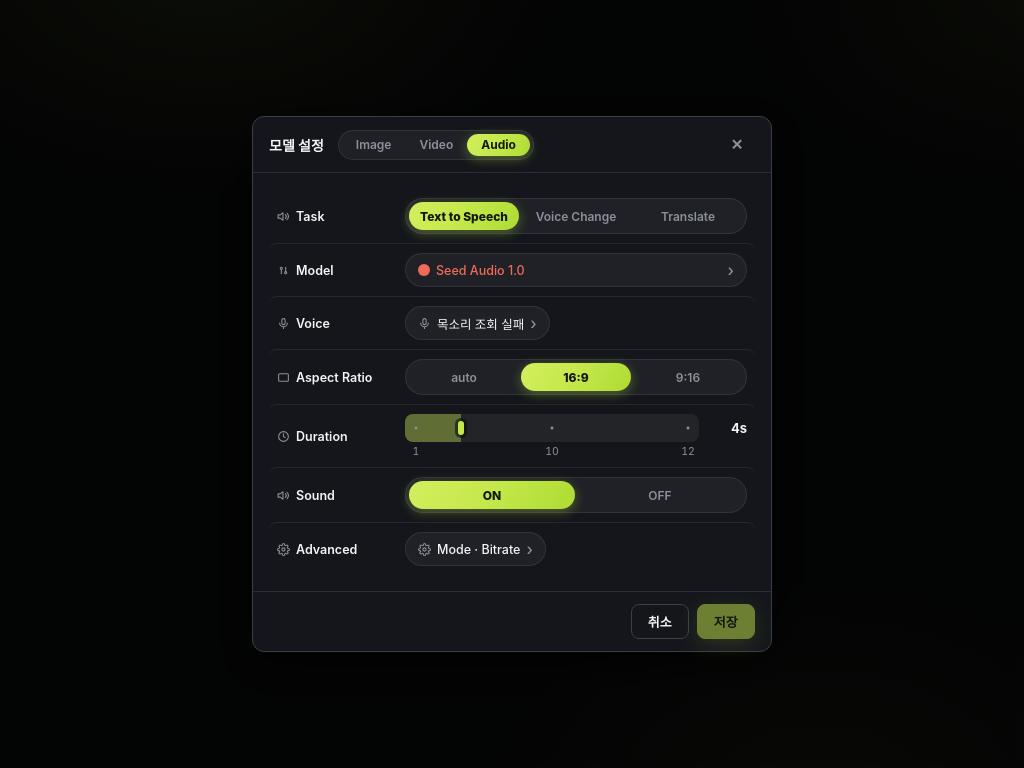
Audio 면 생성창처럼 TTS·Voice Change·Translate 단추 — 다른 일로 갔다 TTS 로 오면 마지막 대본 모델
This screenshot has width=1024, height=768.
Click the button "Voice Change" at (576, 216), box [521,202,631,230]
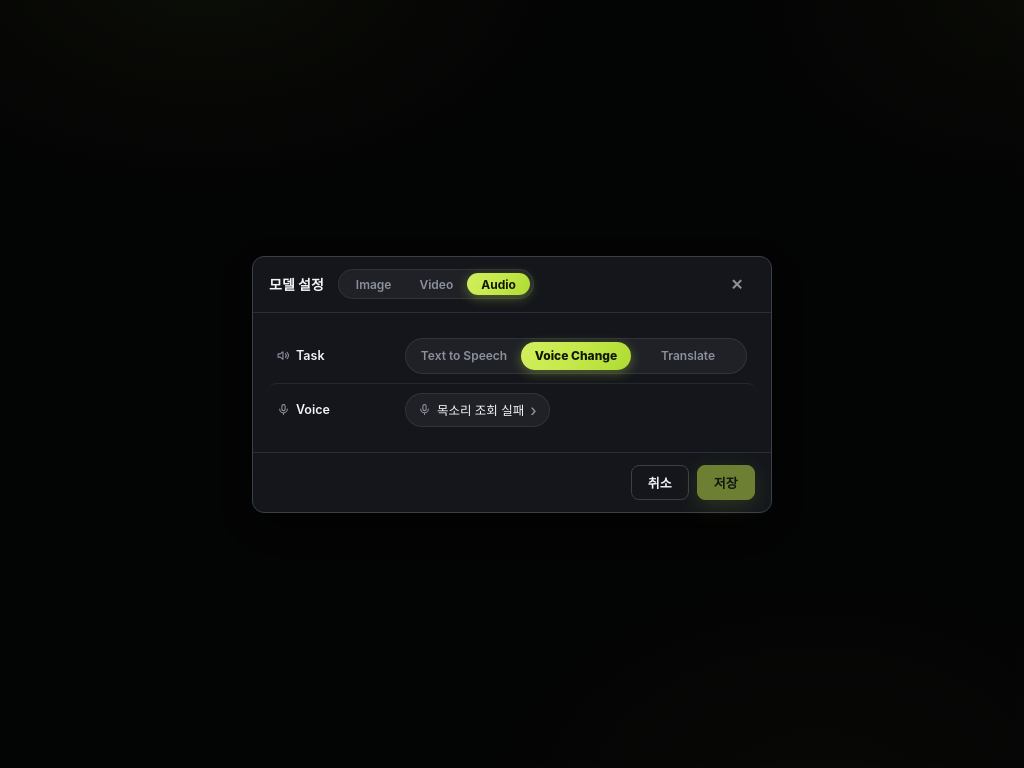
Now the button "Voice Change" is pressed, box [521,342,631,370]
Click the button "Text to Speech" at (464, 356), box [409,342,519,370]
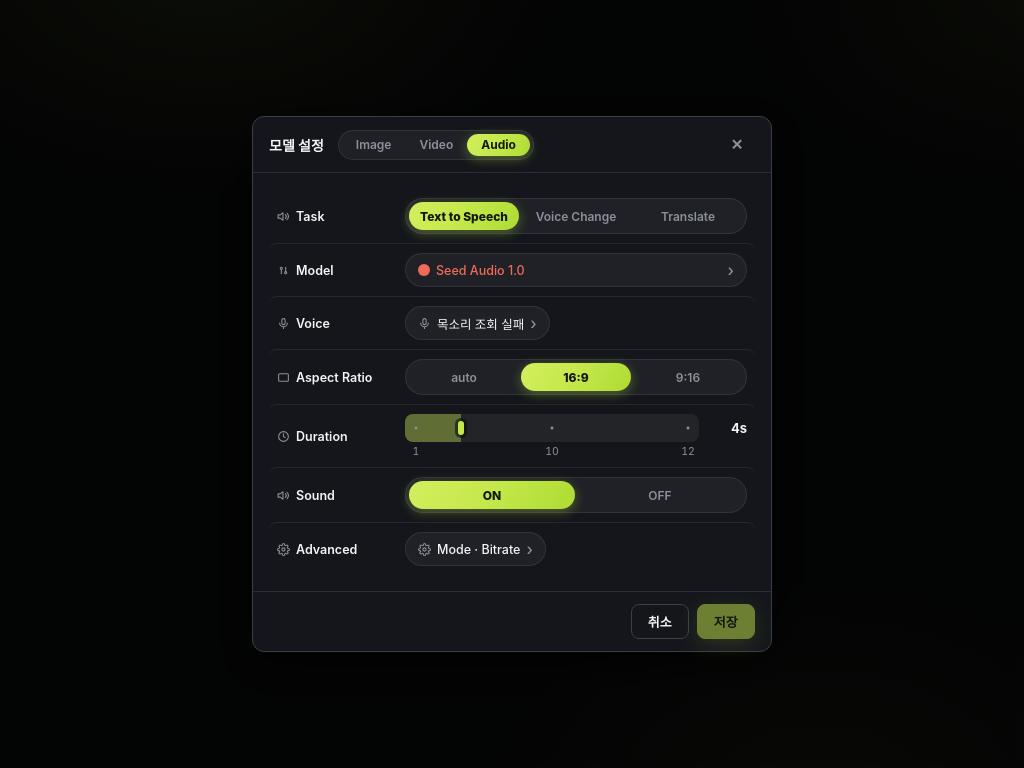
Now the text with class "sl-chip-label" shows "Seed Audio", box [436,262,525,278]
